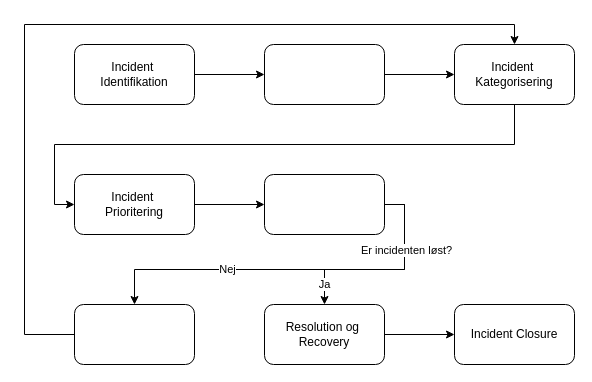
Some shapes in this 592 by 382 pixel diagram are drawn without their labels. The shapes that lost their labels are listed below. From the top down, each one's box as (x1, y1, x2, y2) in pixels, then its label:
(264, 44, 384, 104): Incident Logging
(264, 174, 384, 234): Indledende Diagnose
(74, 304, 194, 364): Incident Eskalering
